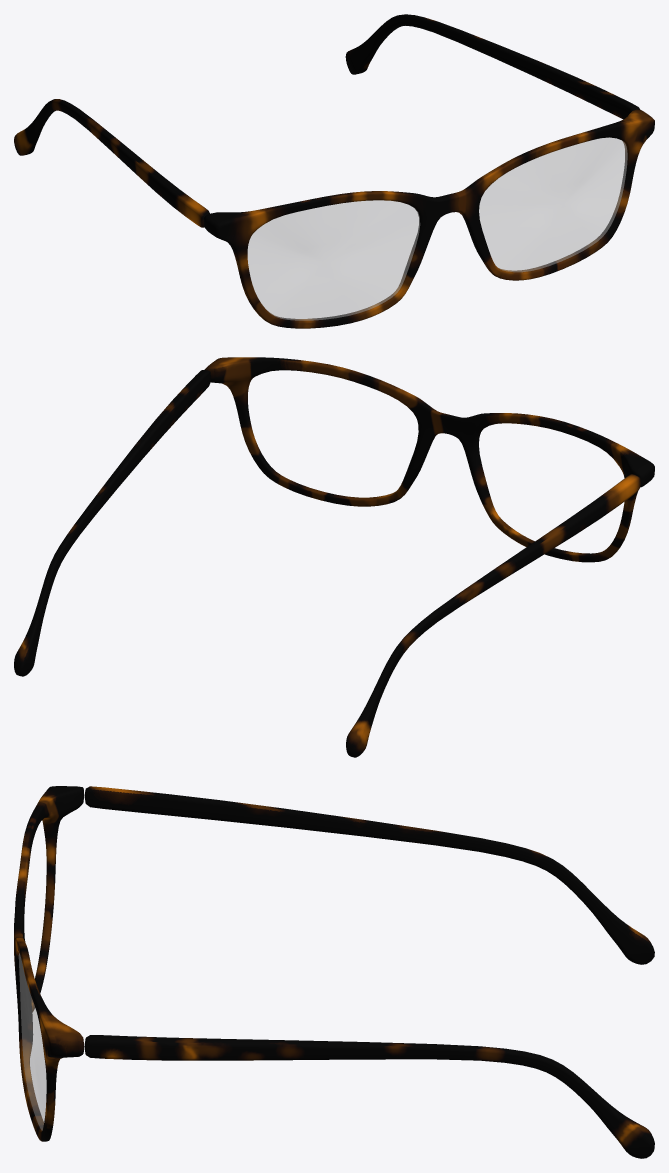
Rendered from Textured_Glasses.glb.
3 views of the same model, one above another, from view 1: azimuth 30°, elevation 25°; view 2: azimuth 150°, elevation 25°; view 3: azimuth 270°, elevation 25° (orthographic). The views are drawn at different scales.
Parts seen in each view (by area): view 1: lens, frame, Left_Arm, Right_Arm; view 2: frame, Right_Arm, Left_Arm; view 3: Left_Arm, Right_Arm, frame, lens.
Part boxes in pixels (x1,y1,x2,y2): lens: [247, 137, 627, 320]; frame: [204, 109, 654, 328]; Left_Arm: [345, 14, 639, 119]; Right_Arm: [14, 99, 209, 227]; frame: [204, 357, 654, 562]; Right_Arm: [346, 474, 640, 757]; Left_Arm: [14, 370, 210, 676]; Left_Arm: [84, 1035, 654, 1158]; Right_Arm: [84, 786, 654, 964]; frame: [14, 786, 83, 1141]; lens: [18, 953, 46, 1130].
Bounding box in the file's own units: 0.9803 × 0.286 × 1.04.
3 materials, 2 textured.
